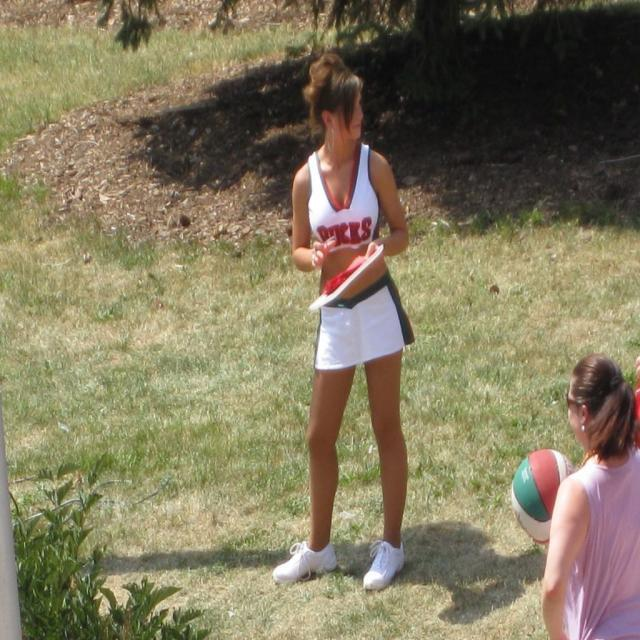football: (490, 435, 587, 543)
